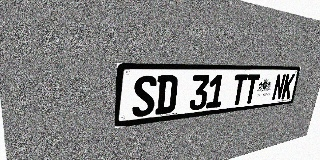1: (206, 75, 225, 109)
3: (189, 75, 210, 111)
D: (155, 75, 178, 115)
K: (281, 74, 295, 99)
N: (271, 74, 286, 101)
S: (132, 76, 157, 118)
T: (230, 74, 248, 106), (243, 74, 260, 104)
